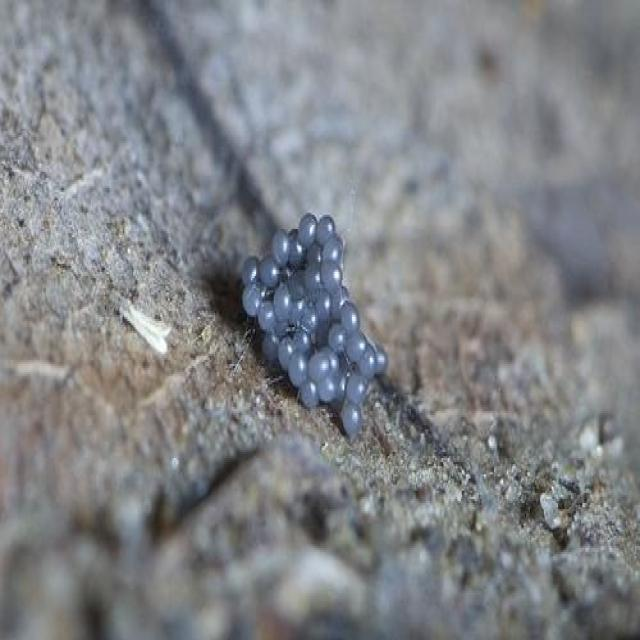army worm: (238, 212, 396, 441)
